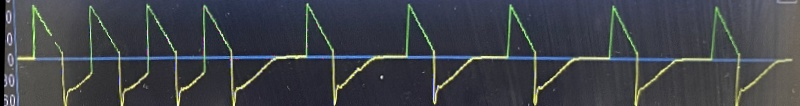normal_flow: (26, 0, 794, 106)
